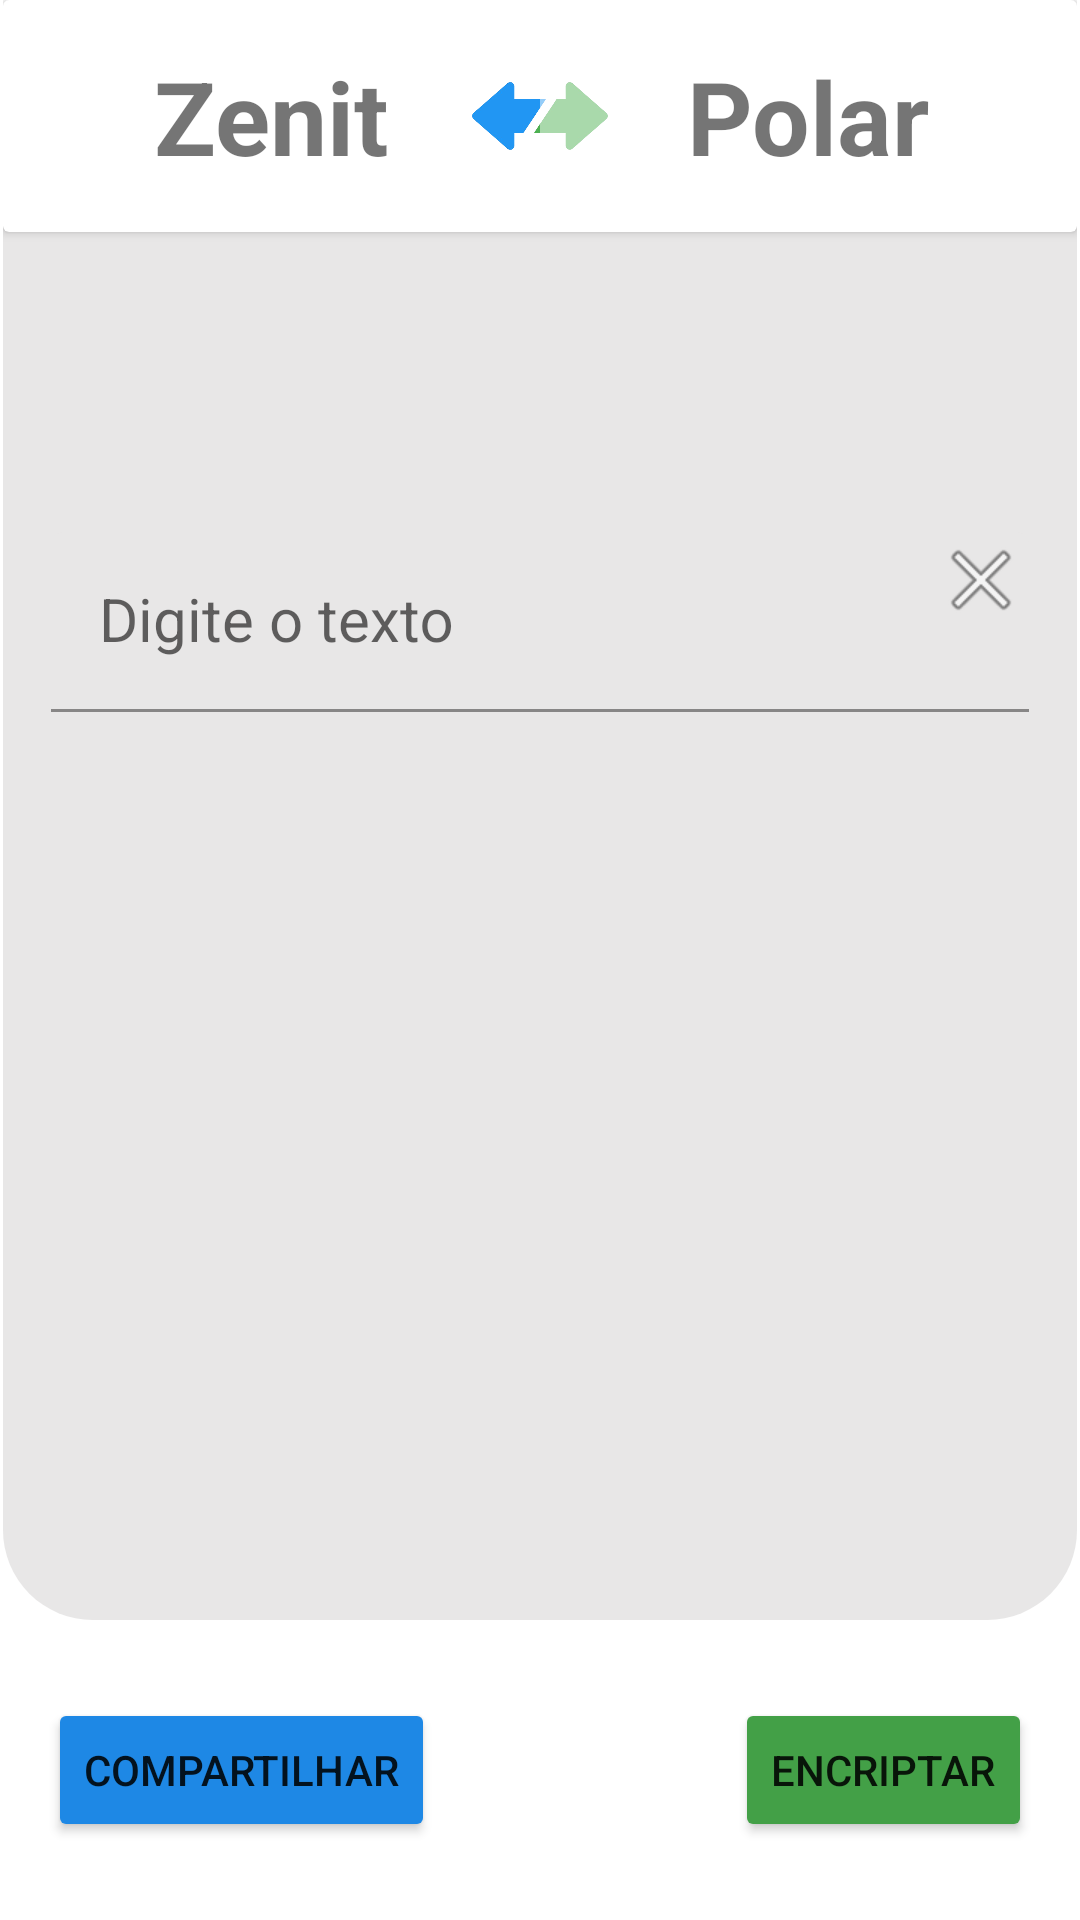

Icons on this 1080*1920 Android screen, each with the point to tap as point (x, y):
close clear cancel: point (981, 580)
